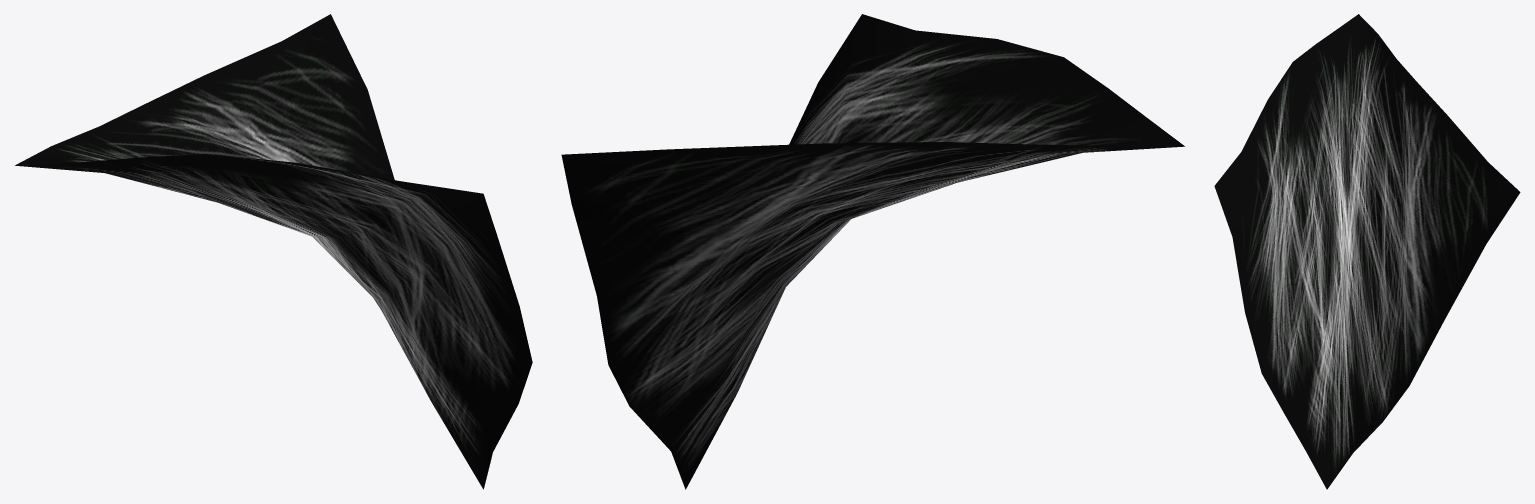
File: SWORDLIGHT20_PS-AREA01_CORNERWEB18.fbx
The picture shows the model from 3 angles, left to right: view 1: azimuth 30°, elevation 25°; view 2: azimuth 150°, elevation 25°; view 3: azimuth 270°, elevation 25°; orthographic projection. The views are drawn at different scales.
Parts seen in each view (by area): view 1: SWORDLIGHT20_PS-AREA01_CORNERWEB18; view 2: SWORDLIGHT20_PS-AREA01_CORNERWEB18; view 3: SWORDLIGHT20_PS-AREA01_CORNERWEB18.
Boxes of the visible parts, x1,y1,x2,y2 form: SWORDLIGHT20_PS-AREA01_CORNERWEB18: [15, 14, 532, 489]; SWORDLIGHT20_PS-AREA01_CORNERWEB18: [561, 14, 1184, 489]; SWORDLIGHT20_PS-AREA01_CORNERWEB18: [1214, 14, 1520, 489].
Bounding box in the file's own units: 69883 × 62001 × 54019.
Materials: 1 (1 with a texture image).
